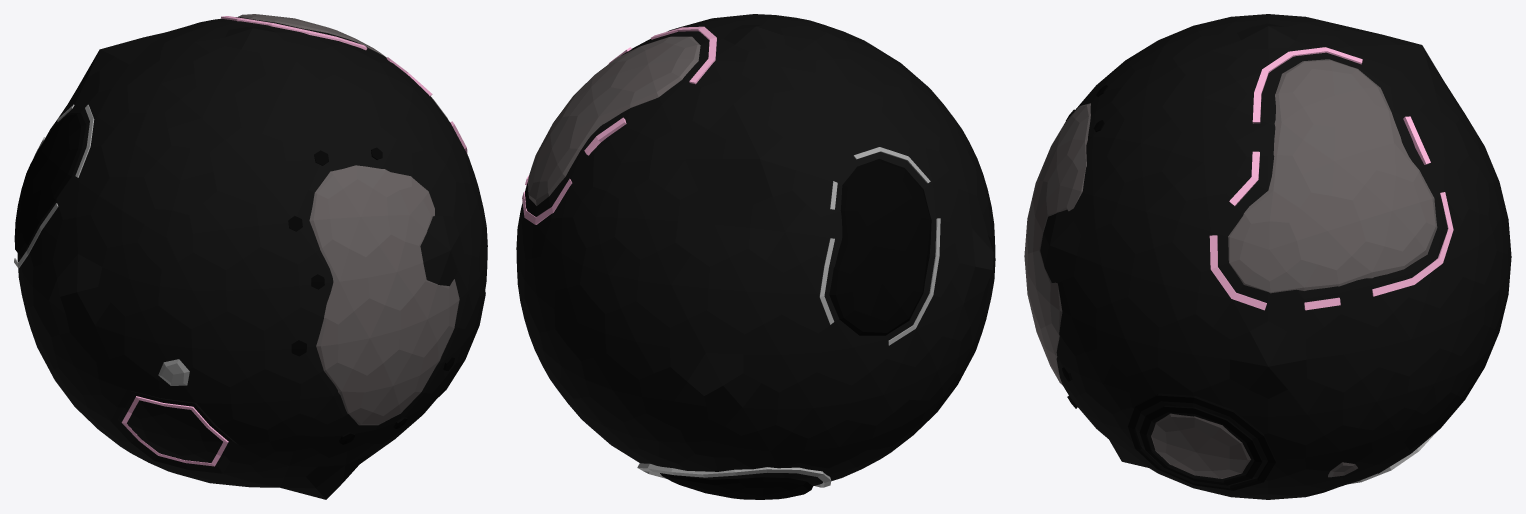
3 renders of one model, left to right at view 1: azimuth 30°, elevation 25°; view 2: azimuth 150°, elevation 25°; view 3: azimuth 270°, elevation 25°, orthographic. The views are drawn at different scales.
Parts seen in each view (by area): view 1: art_spot1; view 2: art_spot1; view 3: art_spot1.
Boxes of the visible parts, x1,y1,x2,y2 form: art_spot1: [14, 14, 487, 499]; art_spot1: [516, 14, 995, 499]; art_spot1: [1024, 14, 1511, 499].
Bounding box in the file's own units: 206 × 203 × 196.
